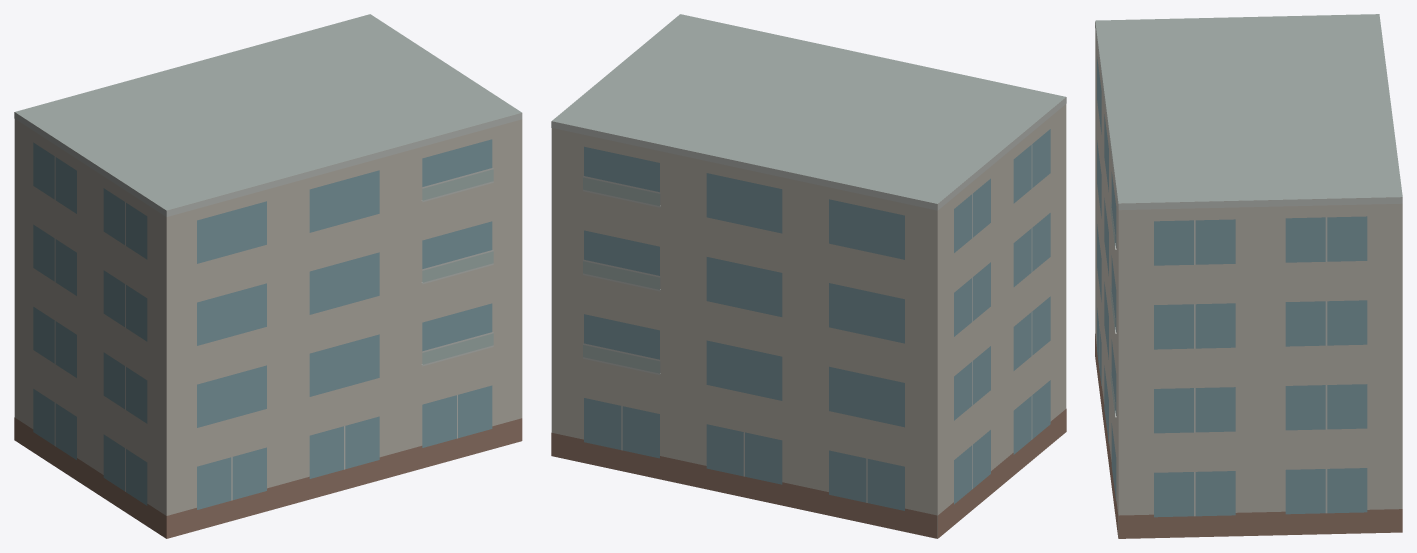
File: residential-4b067c6b-57e7-4d59-bca8-713f92a8e1ba.glb
3 renders of one model, left to right at view 1: azimuth 30°, elevation 25°; view 2: azimuth 150°, elevation 25°; view 3: azimuth 270°, elevation 25°, orthographic. The views are drawn at different scales.
Parts seen in each view (by area): view 1: residential-4b067c6b-57e7-4d59-bca8-713f92a8e1ba.tmp; view 2: residential-4b067c6b-57e7-4d59-bca8-713f92a8e1ba.tmp; view 3: residential-4b067c6b-57e7-4d59-bca8-713f92a8e1ba.tmp.
Boxes of the visible parts, left/top/right/bottom form: residential-4b067c6b-57e7-4d59-bca8-713f92a8e1ba.tmp: left=14, top=14, right=522, bottom=538; residential-4b067c6b-57e7-4d59-bca8-713f92a8e1ba.tmp: left=551, top=14, right=1066, bottom=538; residential-4b067c6b-57e7-4d59-bca8-713f92a8e1ba.tmp: left=1095, top=14, right=1402, bottom=538.
Size of the model in its own units: 14.79 by 12.2 by 10.15.
